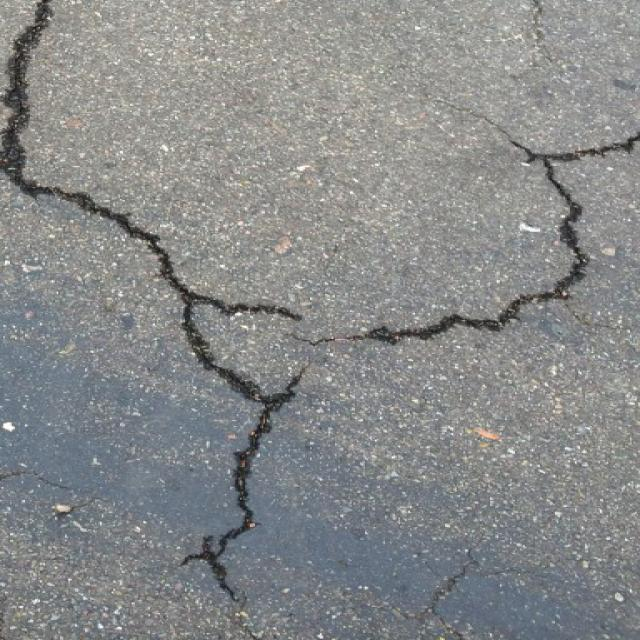crack: (68, 192, 311, 599), (305, 96, 638, 353), (0, 0, 67, 202), (424, 548, 479, 638), (516, 0, 557, 81)
